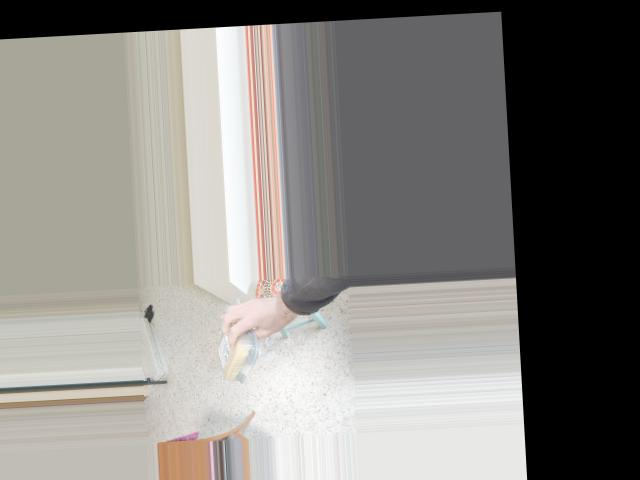cheese: (211, 308, 262, 386)
